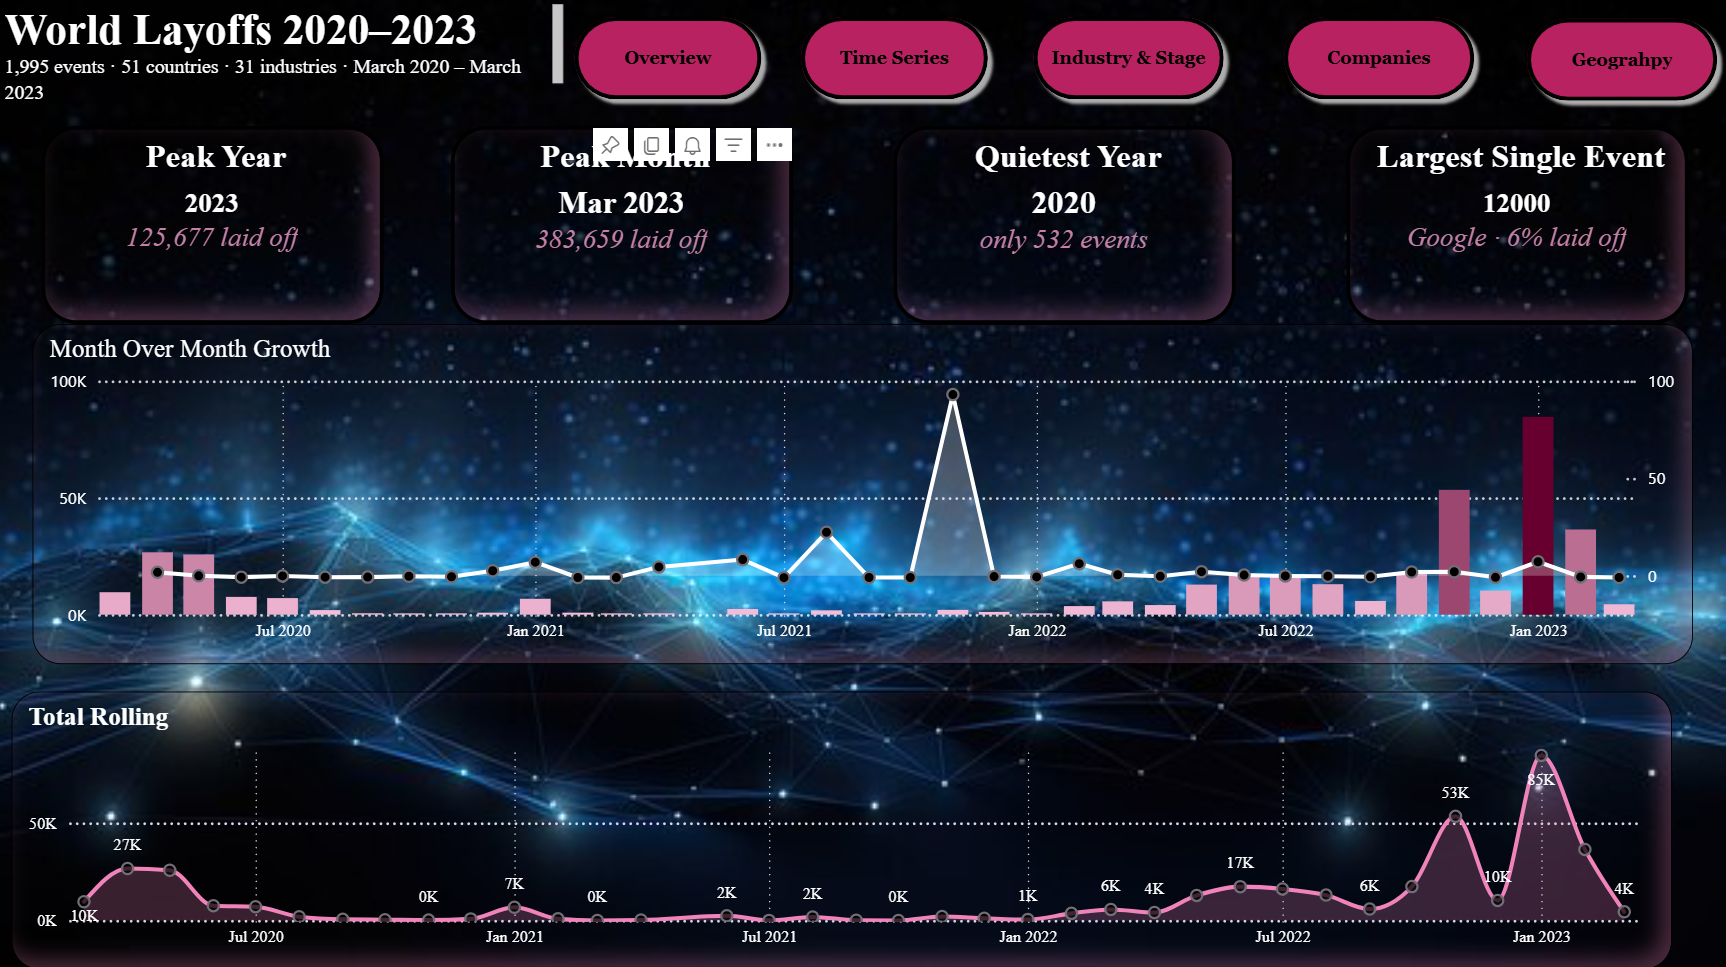

What the dashboard file says about the page in this screenshot:
{"tool":"powerbi","page":{"name":"Time Series","canvas":[1280,720],"ordinal":1},"visuals":[{"type":"textbox","box":[0,0,423.3,83.3],"z":0},{"type":"actionButton","title":"Overview","box":[587.5,7.5,152.5,75],"z":1000},{"type":"actionButton","title":"Overview","box":[420,7.5,152.5,75],"z":2000},{"type":"actionButton","title":"Overview","box":[760,7.5,155,75],"z":3000},{"type":"actionButton","title":"Overview","box":[945,7.5,155,75],"z":4000},{"type":"actionButton","title":"Overview","box":[1125,8.3,155,75],"z":5000},{"type":"cardVisual","title":"Peak Year","fields":{"Data":["layoff_staging1.Peak Year Value"]},"box":[31.7,95,253.3,146.7],"z":6000},{"type":"cardVisual","title":"Peak Month","fields":{"Data":["layoff_staging1.Peak Month Value"]},"box":[335,95,253.3,146.7],"z":7000},{"type":"cardVisual","title":"Largest Single Event","fields":{"Data":["layoff_staging1.Largest Single Event Value"]},"box":[998.3,95,253.3,146.7],"z":8000},{"type":"cardVisual","title":"Quietest Year","fields":{"Data":["layoff_staging1.Quietest Year Value"]},"box":[663.3,95,253.3,146.7],"z":9000},{"type":"lineStackedColumnComboChart","title":"Month Over Month Growth","fields":{"Y":["Sum(MoM.monthly_total)"],"Y2":["Sum(MoM.mom_growth_pct)"],"Category":["MoM.yr_month"]},"box":[25,241.7,1230,251.7],"z":10000},{"type":"lineChart","title":"Total Rolling","fields":{"Y":["Sum(Total Rolling.monthly_total)"],"Category":["Total Rolling.yr_month"]},"box":[10,514,1230,206],"z":11000}]}

Visuals, with their boxes on the page's 1280x720 design canvas (x1, y1, x2, y2). These are canvas units, not pixel positions in the 1726x967 screenshot, which may show the page scaled, cropped or inside an application window:
textbox: x1=0, y1=0, x2=423, y2=83
"Overview" actionButton: x1=588, y1=8, x2=740, y2=82
"Overview" actionButton: x1=420, y1=8, x2=572, y2=82
"Overview" actionButton: x1=760, y1=8, x2=915, y2=82
"Overview" actionButton: x1=945, y1=8, x2=1100, y2=82
"Overview" actionButton: x1=1125, y1=8, x2=1280, y2=83
"Peak Year" cardVisual: x1=32, y1=95, x2=285, y2=242
"Peak Month" cardVisual: x1=335, y1=95, x2=588, y2=242
"Largest Single Event" cardVisual: x1=998, y1=95, x2=1252, y2=242
"Quietest Year" cardVisual: x1=663, y1=95, x2=917, y2=242
"Month Over Month Growth" lineStackedColumnComboChart: x1=25, y1=242, x2=1255, y2=493
"Total Rolling" lineChart: x1=10, y1=514, x2=1240, y2=720
